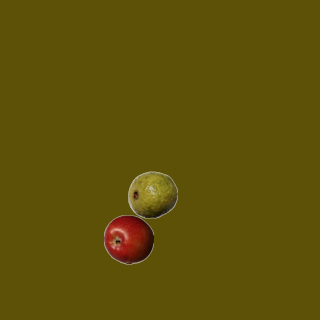Apple Braeburn: (103, 214, 153, 264)
Guava: (127, 169, 177, 219)
